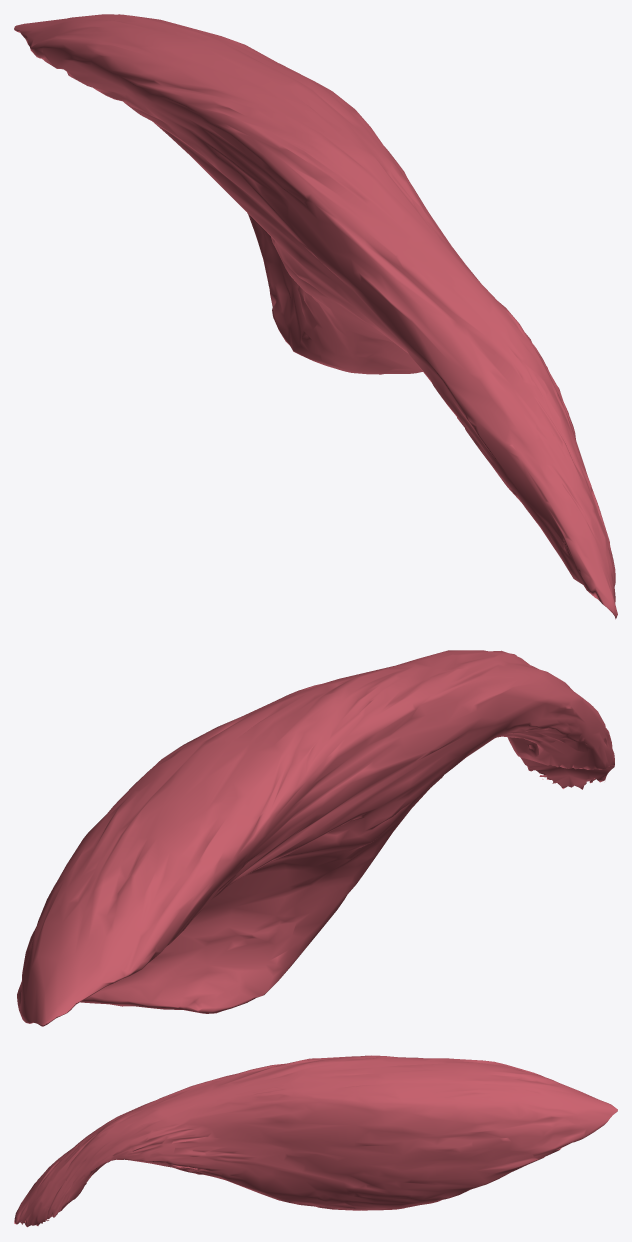
The picture shows the model from 3 angles, top to bottom: view 1: azimuth 30°, elevation 25°; view 2: azimuth 150°, elevation 25°; view 3: azimuth 270°, elevation 25°; orthographic projection. The views are drawn at different scales.
Parts seen in each view (by area): view 1: 右侧腓肠肌内侧头; view 2: 右侧腓肠肌内侧头; view 3: 右侧腓肠肌内侧头.
Boxes of the visible parts, box(x1,y1,x2,y2) form: 右侧腓肠肌内侧头: box(14, 14, 617, 619); 右侧腓肠肌内侧头: box(17, 650, 614, 1026); 右侧腓肠肌内侧头: box(14, 1055, 617, 1227).
Size of the model in its own units: 0.0754 by 0.1267 by 0.4415.
